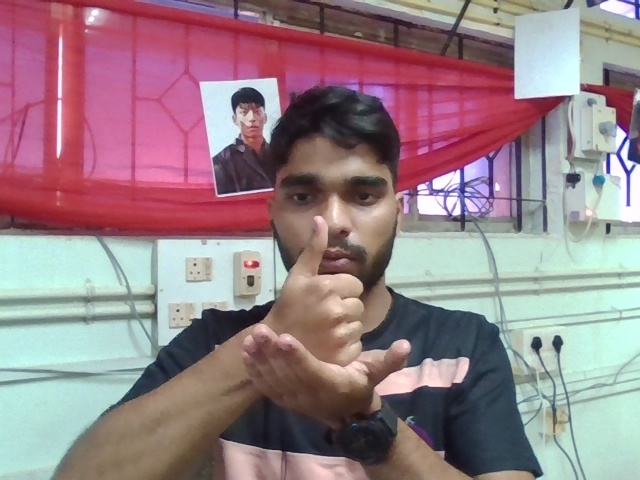help: (232, 205, 425, 416)
